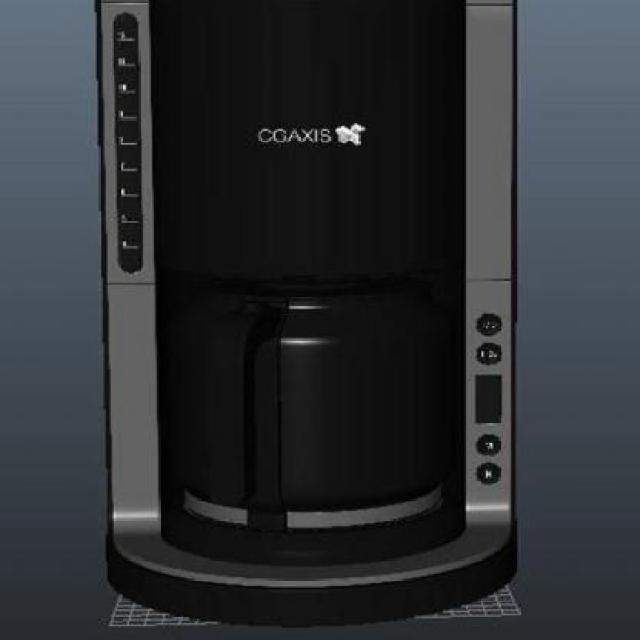cooler: (91, 0, 519, 631)
